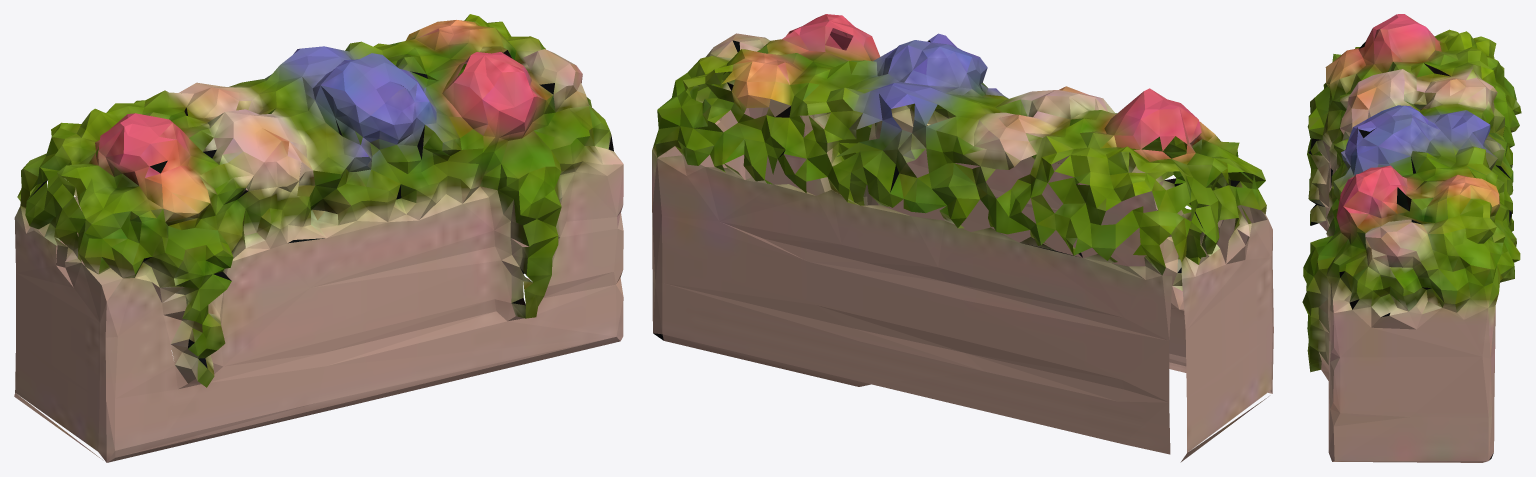
File: M-13_09_planter.glb
3 views of the same model, side by side, from view 1: azimuth 30°, elevation 25°; view 2: azimuth 150°, elevation 25°; view 3: azimuth 270°, elevation 25° (orthographic). The views are drawn at different scales.
Parts seen in each view (by area): view 1: loA; view 2: loA; view 3: loA.
Part boxes in pixels (<box>): loA: <box>14,14,623,462</box>; loA: <box>652,14,1273,462</box>; loA: <box>1302,14,1521,462</box>.
Size of the model in its own units: 4.03 by 2.2 by 1.65.
1 material, 1 textured.
